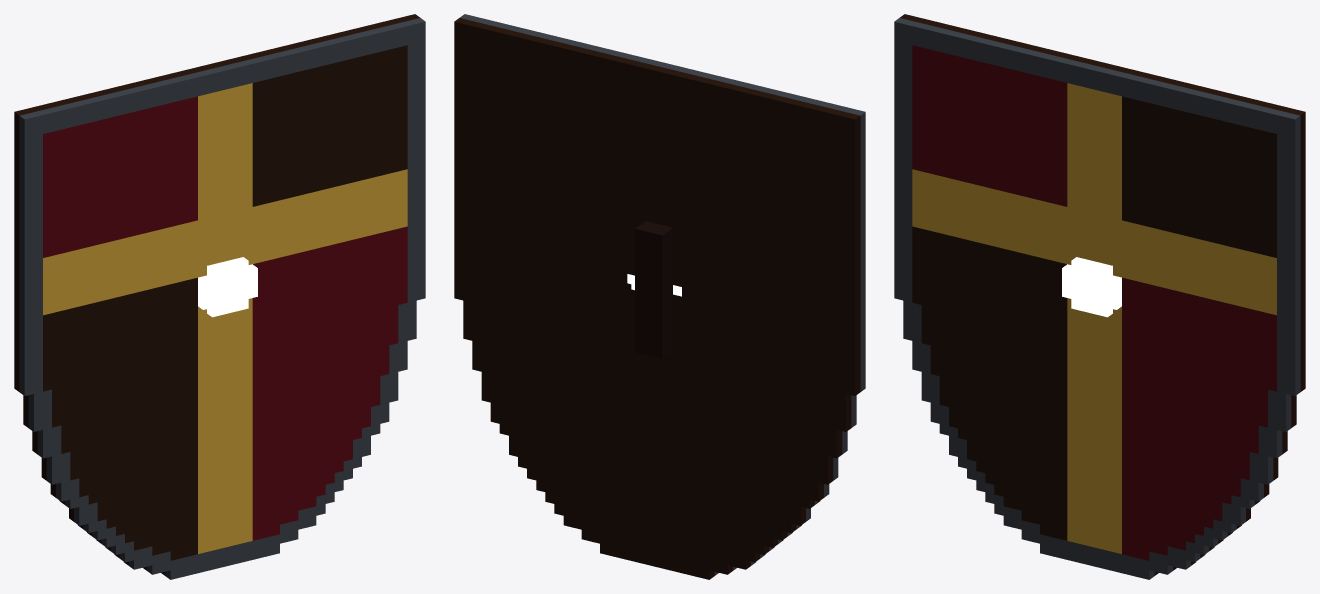
The model's file is gullhaven_kite_shield.glb.
3 views of the same model, side by side, from view 1: azimuth 30°, elevation 25°; view 2: azimuth 150°, elevation 25°; view 3: azimuth 330°, elevation 25° (orthographic).
Visible parts, largest first — view 1: gullhaven_kite_shield; view 2: gullhaven_kite_shield; view 3: gullhaven_kite_shield.
Boxes of the visible parts, x1,y1,x2,y2 form: gullhaven_kite_shield: [14, 14, 425, 579]; gullhaven_kite_shield: [454, 14, 865, 579]; gullhaven_kite_shield: [894, 14, 1305, 579].
Bounding box in the file's own units: 0.66 × 0.78 × 0.075.
